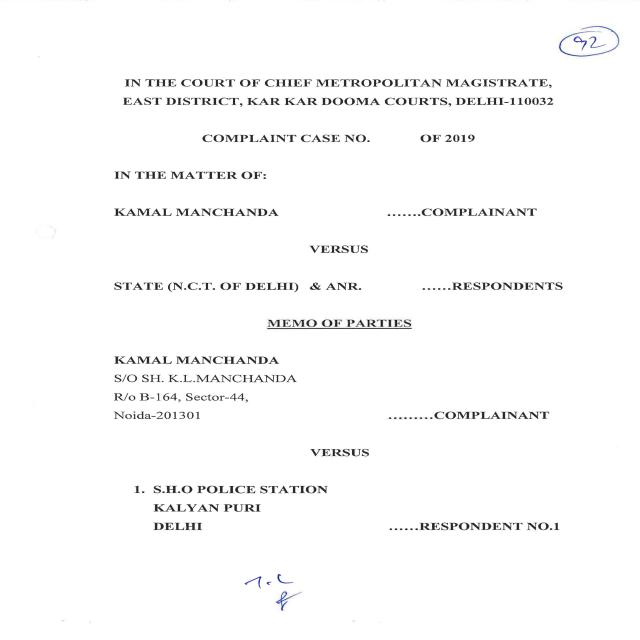page-number: (406, 18, 628, 74)
